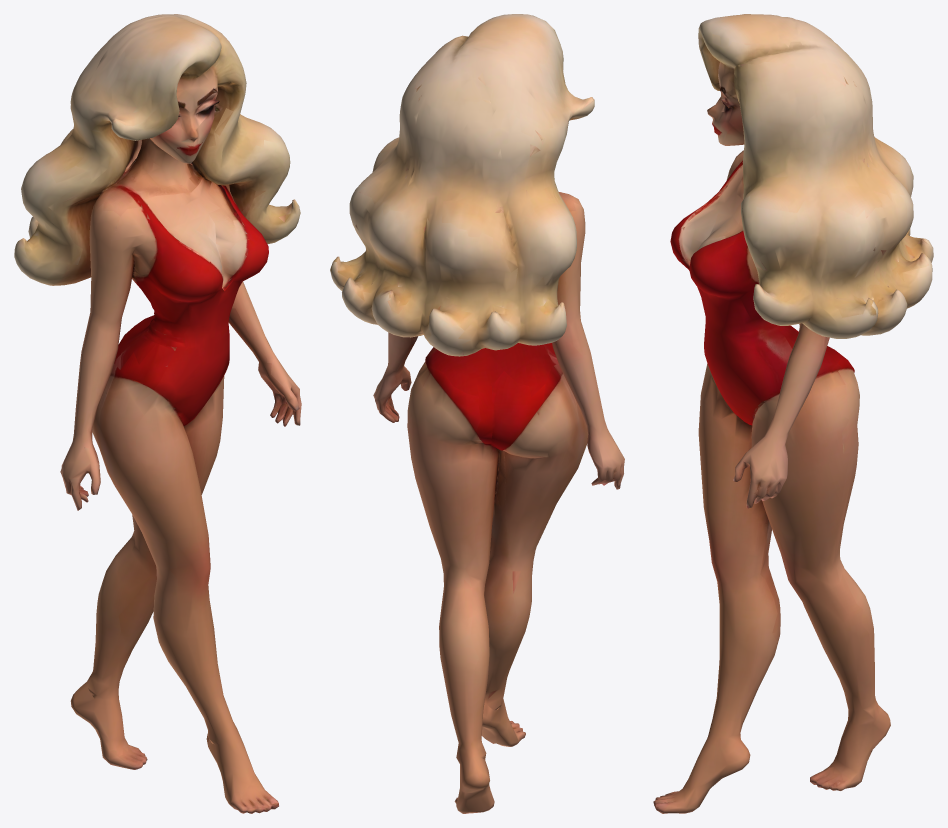
Rendered from beach_lie_w1.glb.
3 views of the same model, side by side, from view 1: azimuth 30°, elevation 25°; view 2: azimuth 150°, elevation 25°; view 3: azimuth 270°, elevation 25° (orthographic). The views are drawn at different scales.
Visible parts, largest first — view 1: beach_lie_w1; view 2: beach_lie_w1; view 3: beach_lie_w1.
Part boxes in pixels (x1,y1,x2,y2): beach_lie_w1: (14, 14, 301, 813); beach_lie_w1: (330, 14, 624, 813); beach_lie_w1: (653, 14, 933, 813).
Size of the model in its own units: 0.5648 by 1.7 by 0.5619.
1 material, 1 textured.
